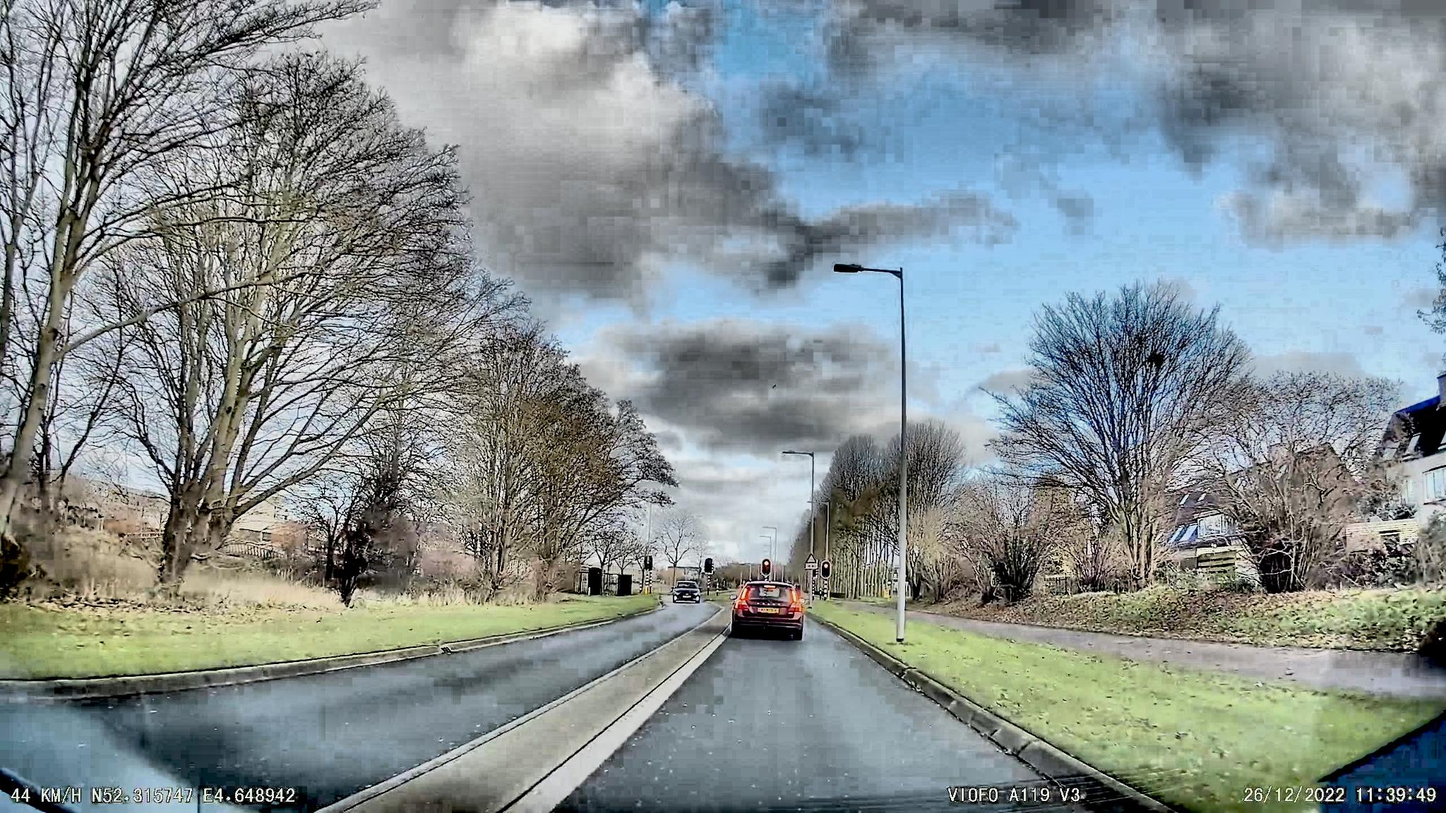Roads: (0, 604, 1169, 813)
